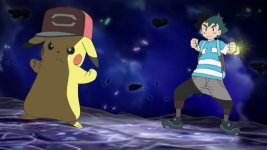pikachu: (17, 31, 100, 132)
